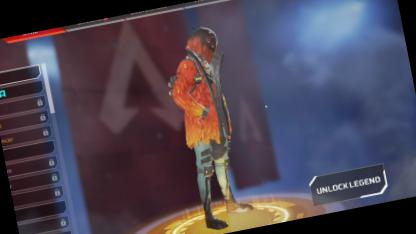Target: (157, 22, 247, 190)
